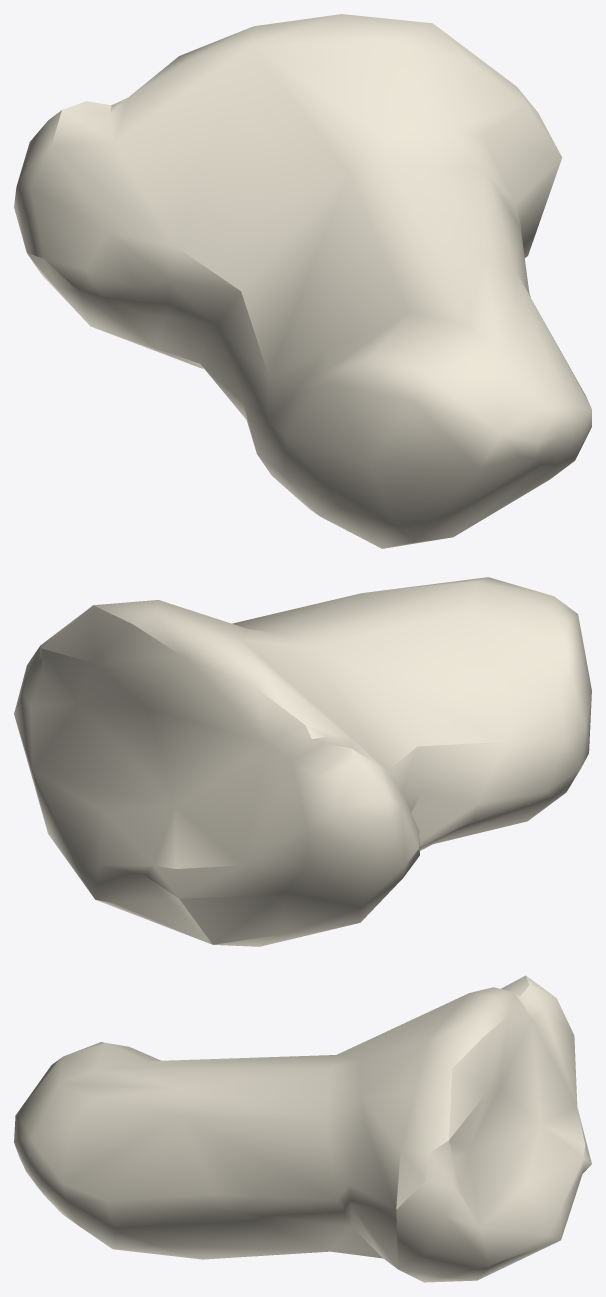
Rendered from fma32654.glb.
The picture shows the model from 3 angles, top to bottom: view 1: azimuth 30°, elevation 25°; view 2: azimuth 150°, elevation 25°; view 3: azimuth 270°, elevation 25°; orthographic projection. The views are drawn at different scales.
Parts seen in each view (by area): view 1: FMA32654; view 2: FMA32654; view 3: FMA32654.
Boxes of the visible parts, bbox=[...] form: FMA32654: bbox=[14, 14, 591, 548]; FMA32654: bbox=[14, 577, 591, 946]; FMA32654: bbox=[14, 975, 591, 1282].
Size of the model in its own units: 0.0086 by 0.00596 by 0.0116.
